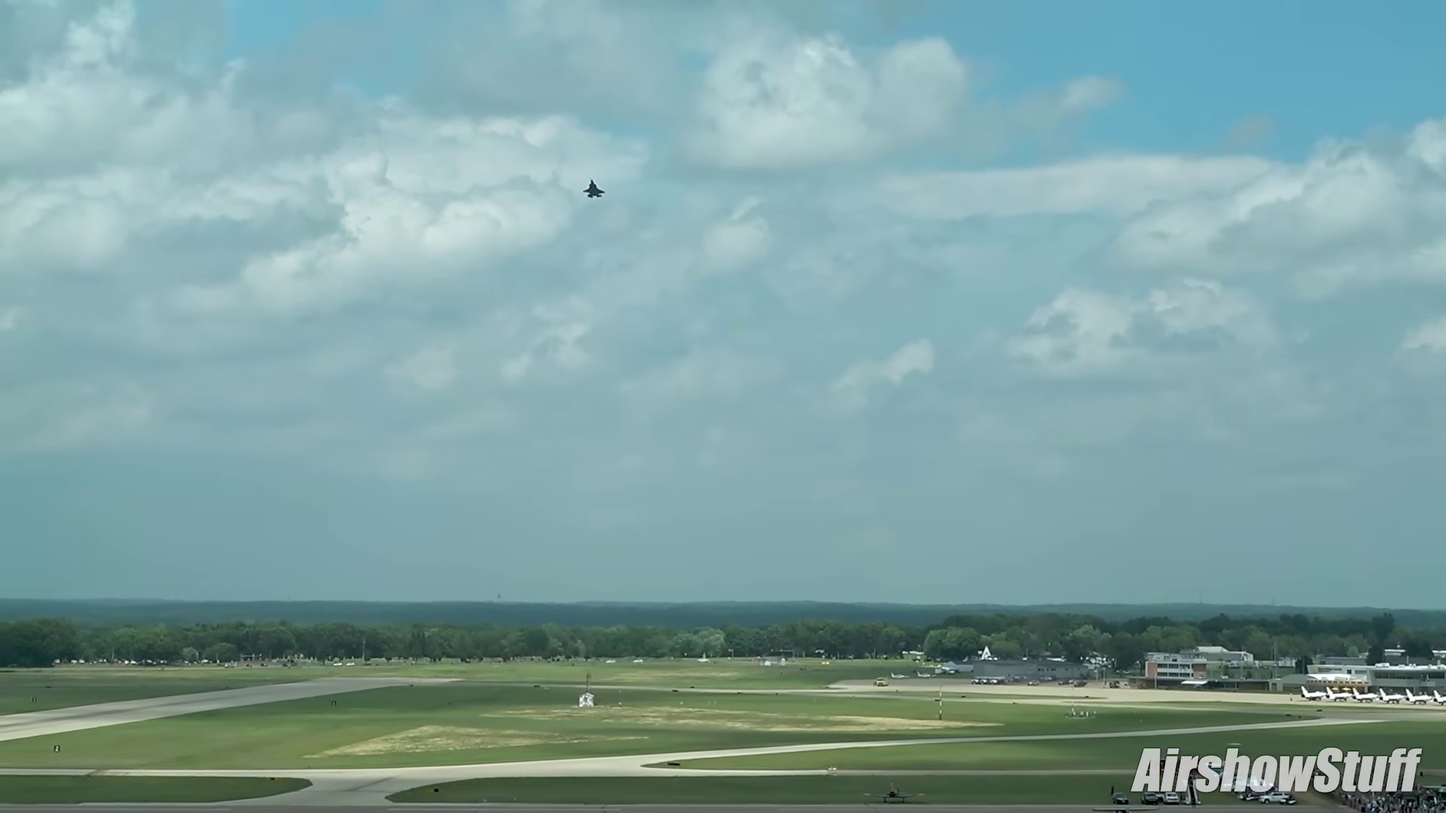F35: (576, 166, 610, 209)
